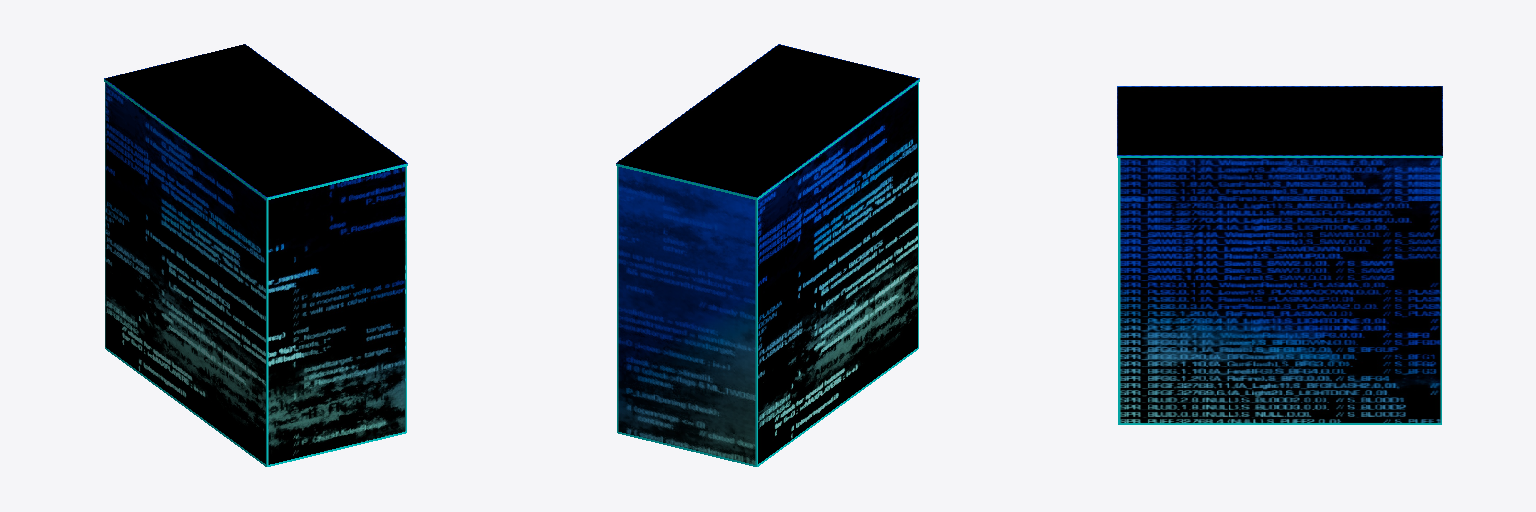
3 renders of one model, left to right at view 1: azimuth 30°, elevation 25°; view 2: azimuth 150°, elevation 25°; view 3: azimuth 270°, elevation 25°, orthographic.
Visible parts, largest first — view 1: Plane; view 2: Plane; view 3: Plane.
Boxes of the visible parts, <box> form: Plane: <box>104,44,407,466</box>; Plane: <box>616,44,919,466</box>; Plane: <box>1117,86,1442,424</box>.
Size of the model in its own units: 60.59 by 110 by 121.
3 materials, 1 textured.